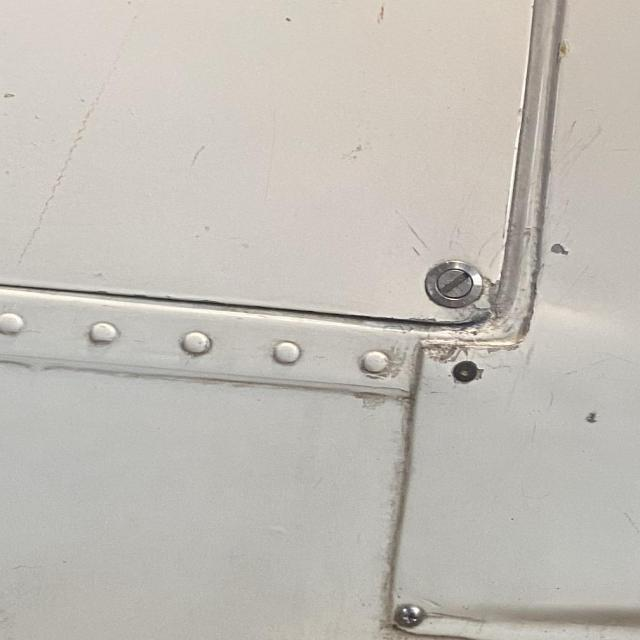Paint-off: (549, 240, 569, 253)
